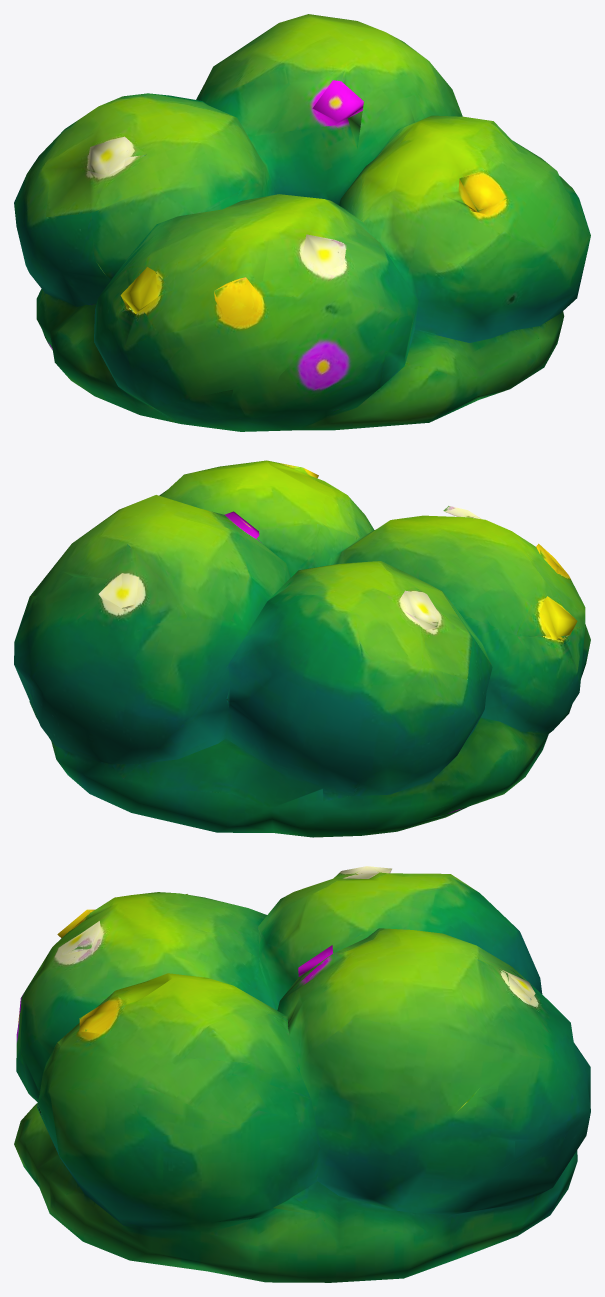
The model's file is bush-DBY3K7U9.glb.
3 views of the same model, one above another, from view 1: azimuth 30°, elevation 25°; view 2: azimuth 150°, elevation 25°; view 3: azimuth 270°, elevation 25° (orthographic). The views are drawn at different scales.
Visible parts, largest first — view 1: bush_raw; view 2: bush_raw; view 3: bush_raw.
Boxes of the visible parts, <box> form: bush_raw: <box>14,14,590,431</box>; bush_raw: <box>14,460,590,837</box>; bush_raw: <box>14,866,590,1282</box>.
Size of the model in its own units: 1.98 by 1 by 1.97.
1 material, 1 textured.
